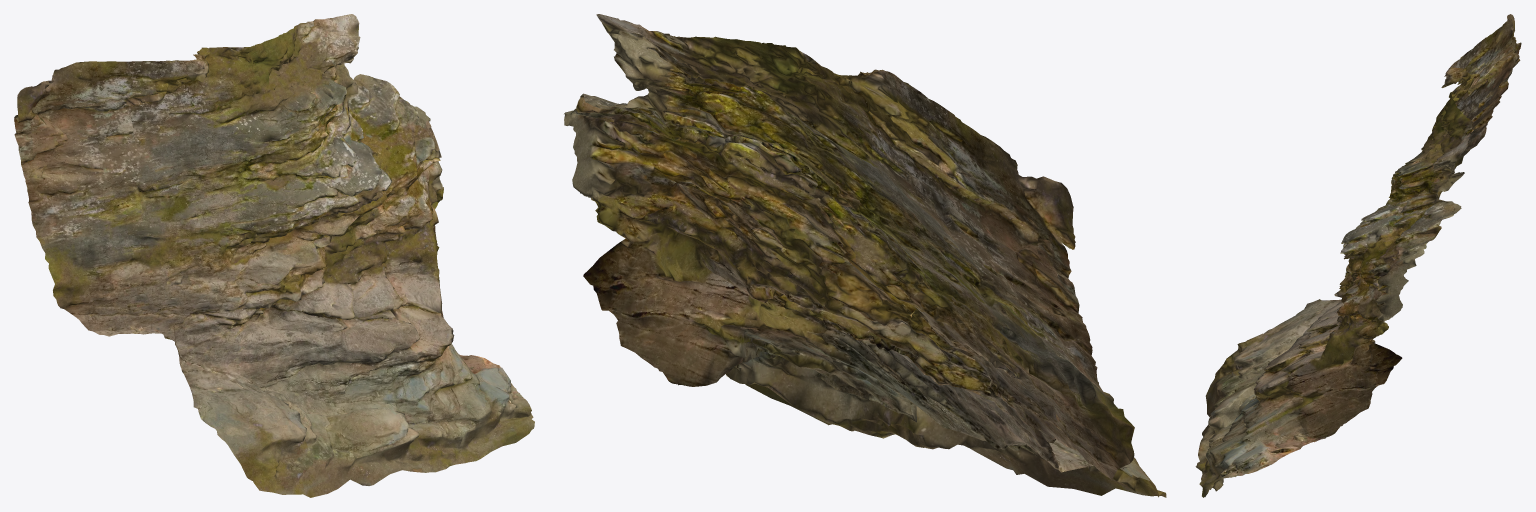
Rendered from rock_face_02.glb.
The picture shows the model from 3 angles, left to right: view 1: azimuth 30°, elevation 25°; view 2: azimuth 150°, elevation 25°; view 3: azimuth 270°, elevation 25°; orthographic projection. The views are drawn at different scales.
Parts seen in each view (by area): view 1: rock_face_02; view 2: rock_face_02; view 3: rock_face_02.
Boxes of the visible parts, left/top/right/bottom form: rock_face_02: left=14, top=14, right=534, bottom=497; rock_face_02: left=564, top=14, right=1166, bottom=497; rock_face_02: left=1195, top=14, right=1521, bottom=497.
Bounding box in the file's own units: 2.71 × 2.47 × 2.13.
Materials: 1 (1 with a texture image).
